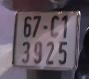1: (61, 15, 69, 39)
2: (43, 40, 57, 66)
3: (21, 40, 31, 64)
5: (56, 38, 72, 67)
6: (21, 16, 32, 38)
7: (31, 14, 42, 38)
9: (31, 38, 43, 65)
C: (49, 14, 62, 39)
